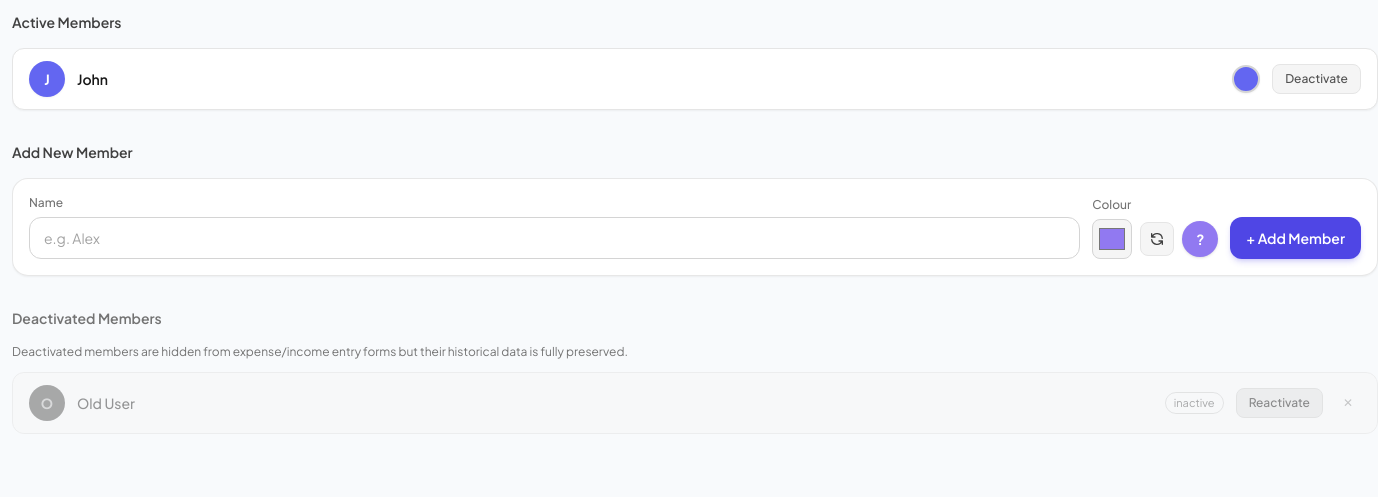
Test: UserManager.svelte — Household User Settings › validates new member name field (Name is required.)
Click the button "+ Add Member": (1296, 238) top-left (1230, 217), bottom-right (1361, 259)
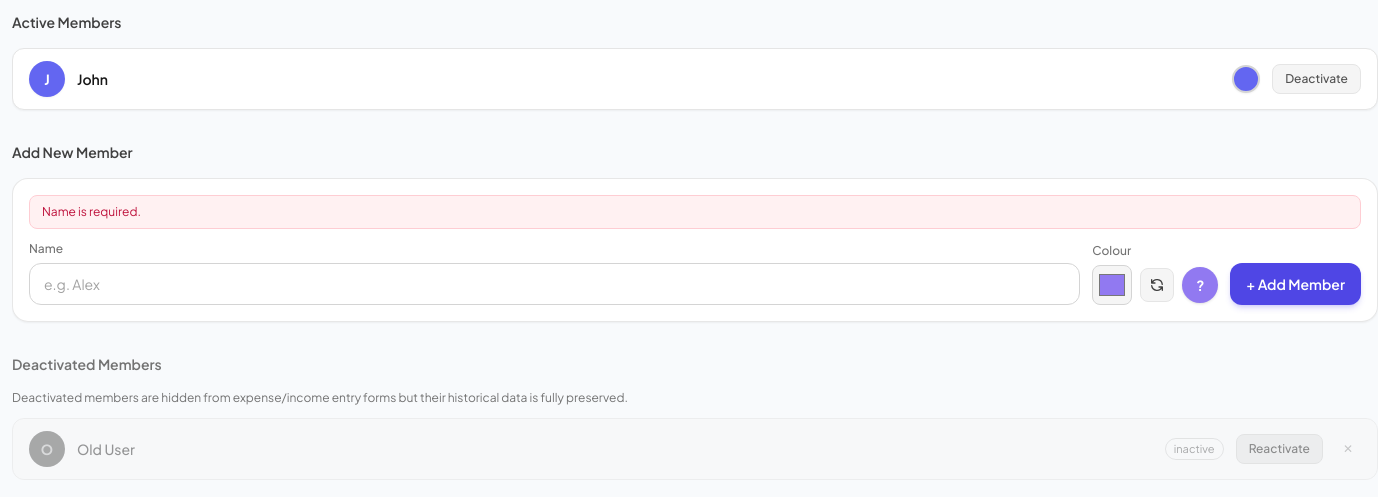
Result: the text "Name is required." is shown at top-left (29, 195), bottom-right (1361, 229)
